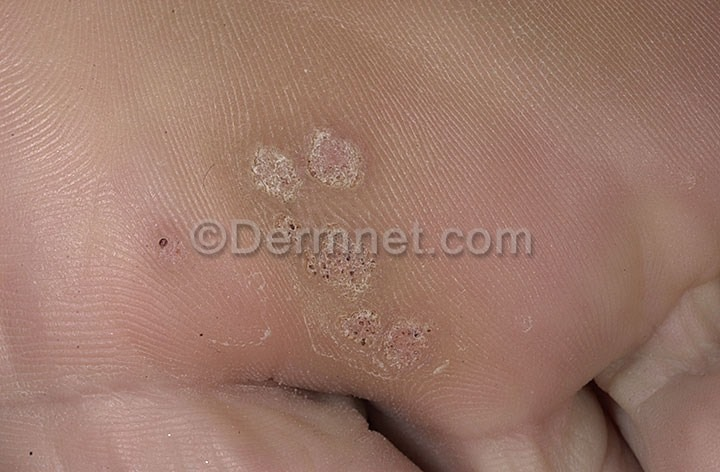Warts: (295, 116, 377, 195), (239, 135, 311, 211)
